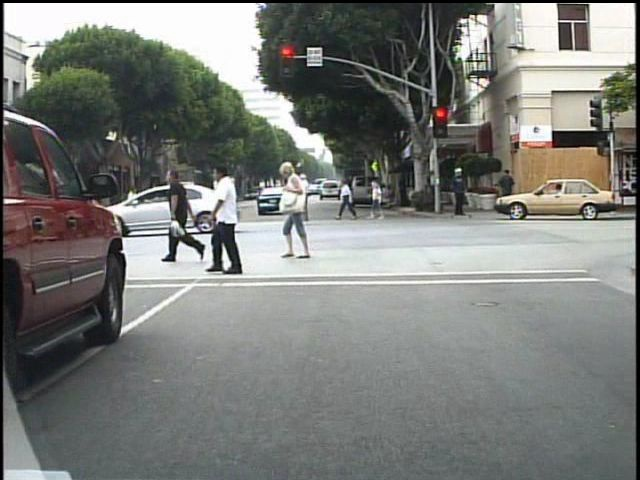person: (203, 161, 264, 279), (162, 161, 209, 266), (277, 162, 325, 263), (296, 171, 317, 225), (448, 163, 467, 221), (276, 176, 298, 224), (339, 174, 359, 224), (156, 177, 174, 231), (119, 178, 138, 226), (497, 166, 516, 213), (4, 189, 22, 237), (9, 197, 26, 237)
